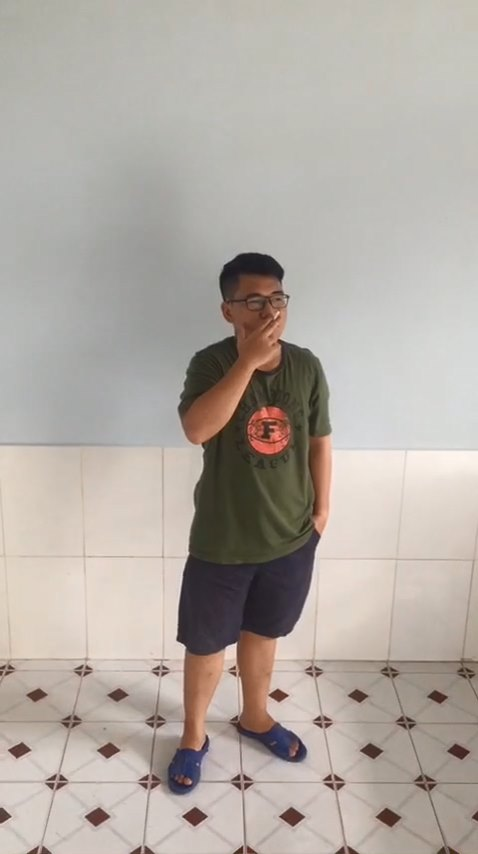cigarette: (271, 304, 284, 321)
person: (131, 216, 360, 806)
